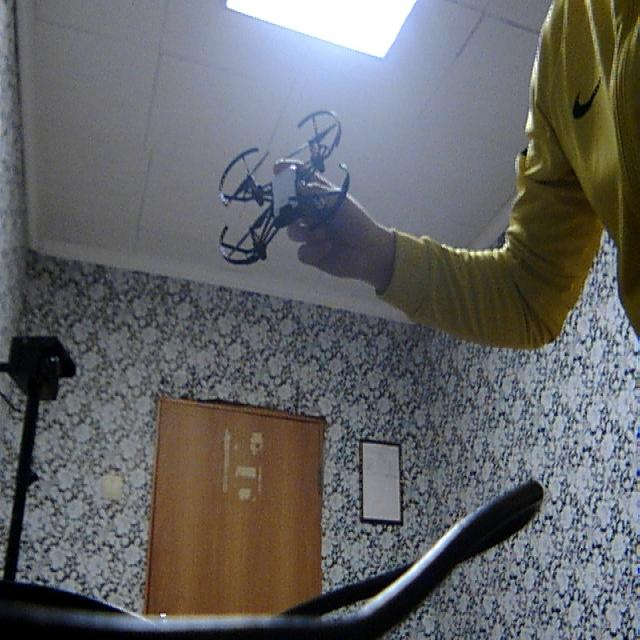drone: (207, 97, 370, 273)
